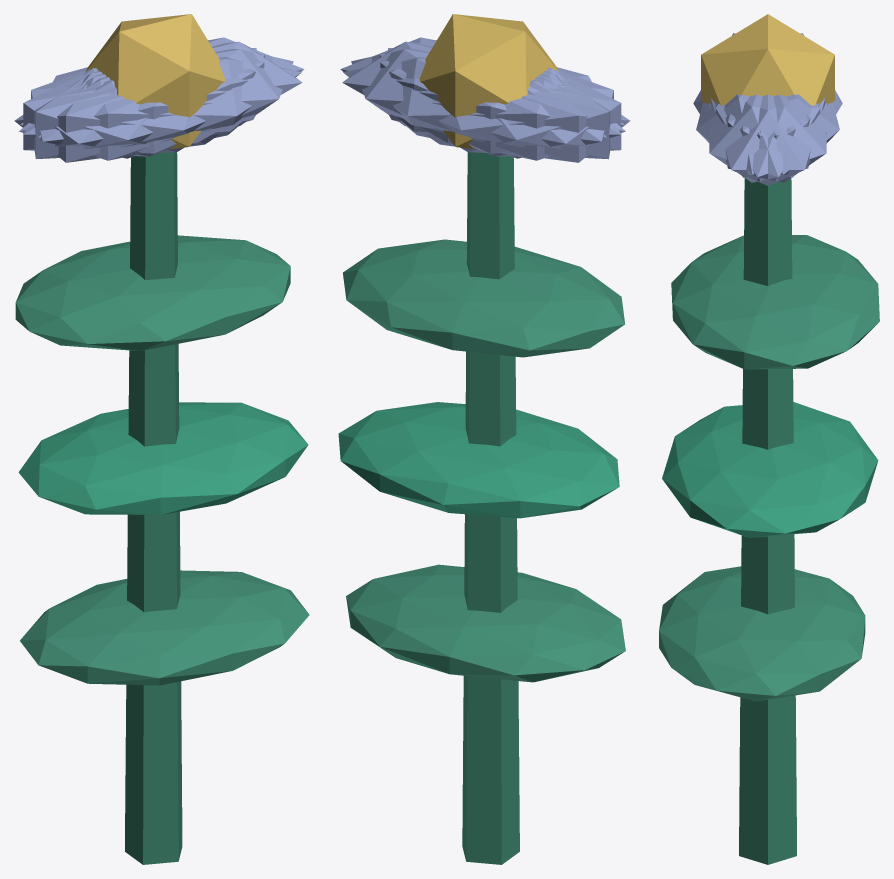
File: cleome-rutidosperma.glb
The picture shows the model from 3 angles, left to right: view 1: azimuth 30°, elevation 25°; view 2: azimuth 150°, elevation 25°; view 3: azimuth 270°, elevation 25°; orthographic projection.
Parts seen in each view (by area): view 1: stem, leaf1, leaf0, leaf2, center, petal1, petal6, petal2, petal5, petal7, petal0, petal4 (+2 smaller); view 2: stem, leaf2, leaf1, leaf0, center, petal8, petal3, petal7, petal4, petal2, petal0, petal5 (+2 smaller); view 3: stem, leaf1, leaf2, leaf0, center, petal0, petal5, petal4, petal1, petal8.
Boxes of the visible parts, x1,y1,x2,y2 form: stem: (125,152,182,864); leaf1: (18,402,308,514); leaf0: (20,570,309,685); leaf2: (15,235,290,351); center: (85,14,224,149); petal1: (19,57,301,160); petal6: (14,69,218,162); petal2: (34,48,256,158); petal5: (38,49,293,153); petal7: (23,54,264,156); petal0: (85,41,302,143); petal4: (20,37,304,134); stem: (462,152,519,864); leaf2: (343,239,624,357); leaf1: (338,402,619,518); leaf0: (346,564,625,682); center: (419,14,558,149); petal8: (343,57,625,160); petal3: (426,69,630,162); petal7: (388,48,610,159); petal4: (351,49,606,153); petal2: (379,54,621,156); petal0: (342,41,558,143); petal5: (340,37,624,134); stem: (739,178,796,864); leaf1: (662,402,878,537); leaf2: (671,235,879,369); leaf0: (659,566,865,701); center: (701,14,834,105); petal0: (710,94,825,185); petal5: (709,94,820,182); petal4: (715,94,827,182); petal1: (696,94,810,174); petal8: (725,94,839,174).
Bounding box in the file's own units: 0.1452 × 0.414 × 0.101.
